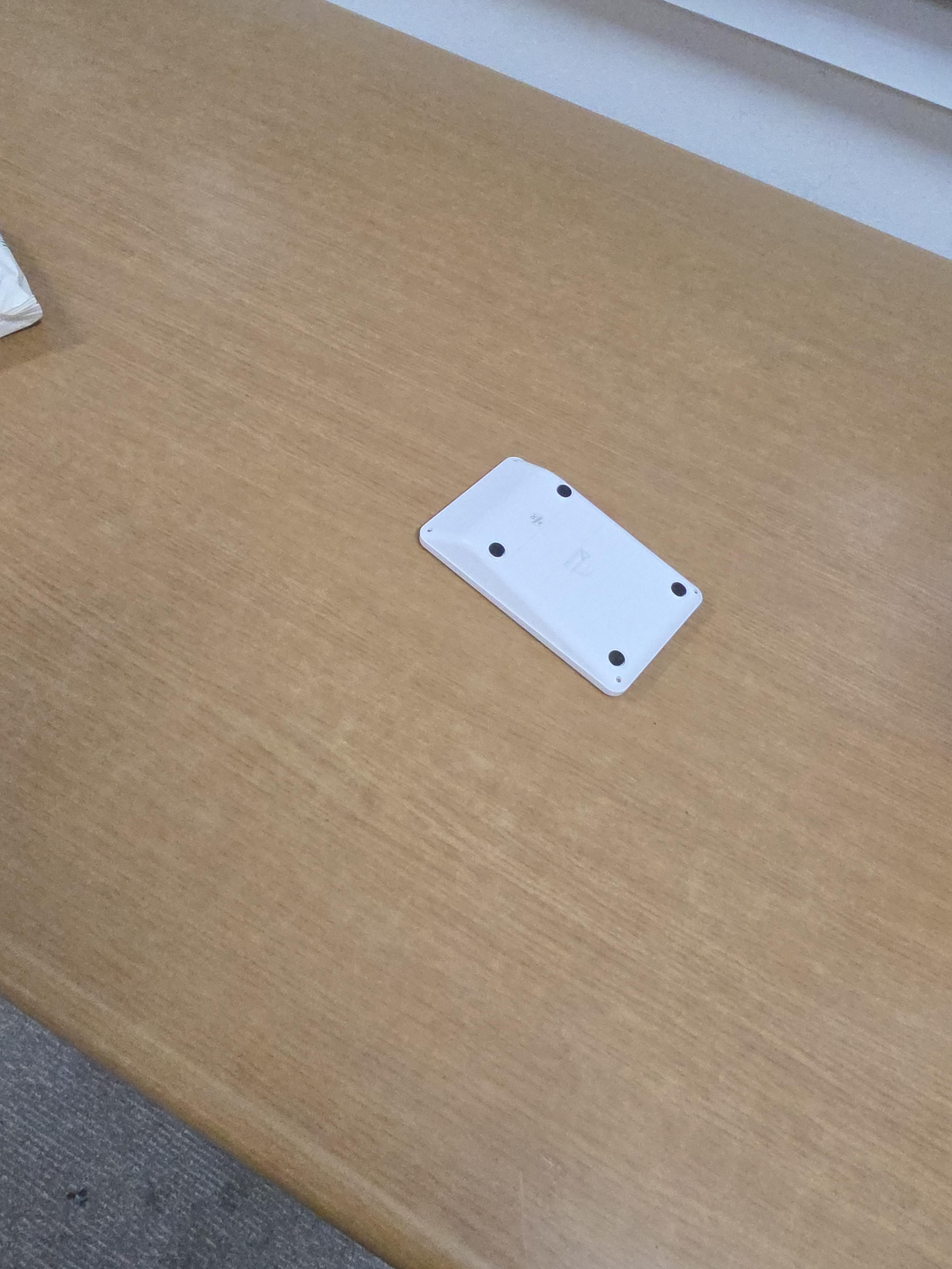calculator: (418, 457, 704, 696)
tissue: (0, 235, 43, 338)
